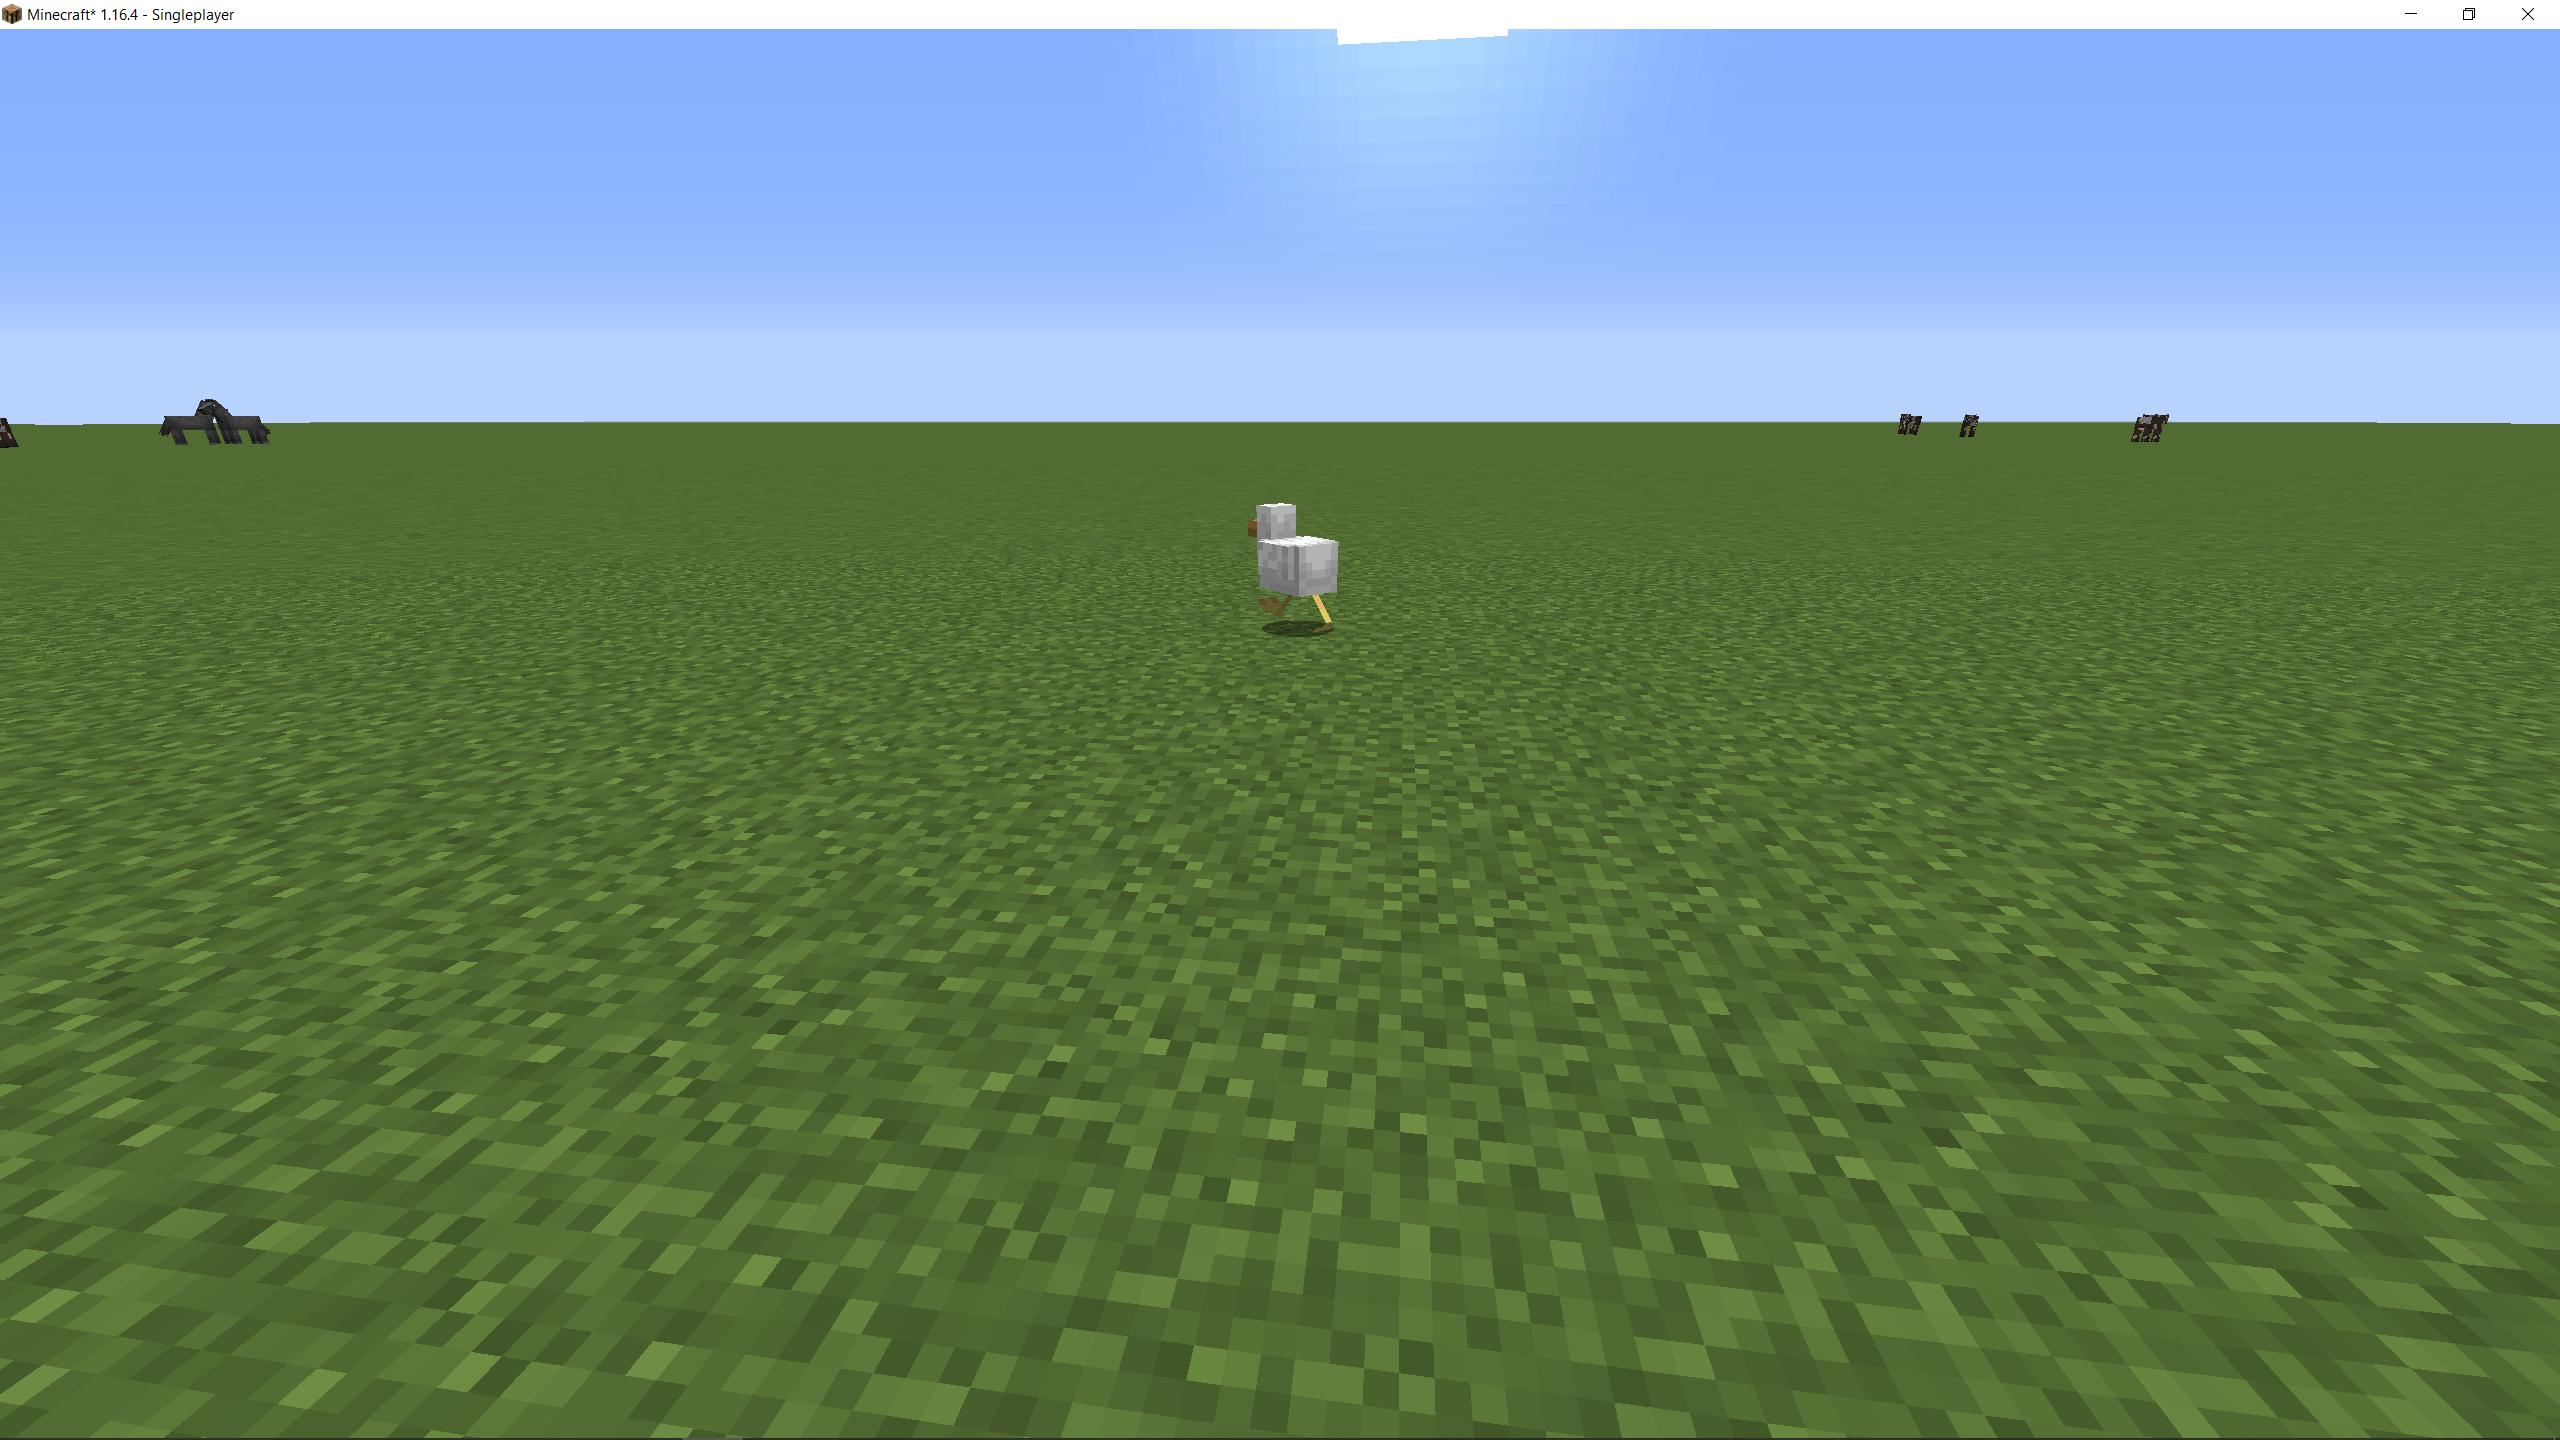chicken: (1245, 498, 1349, 645)
